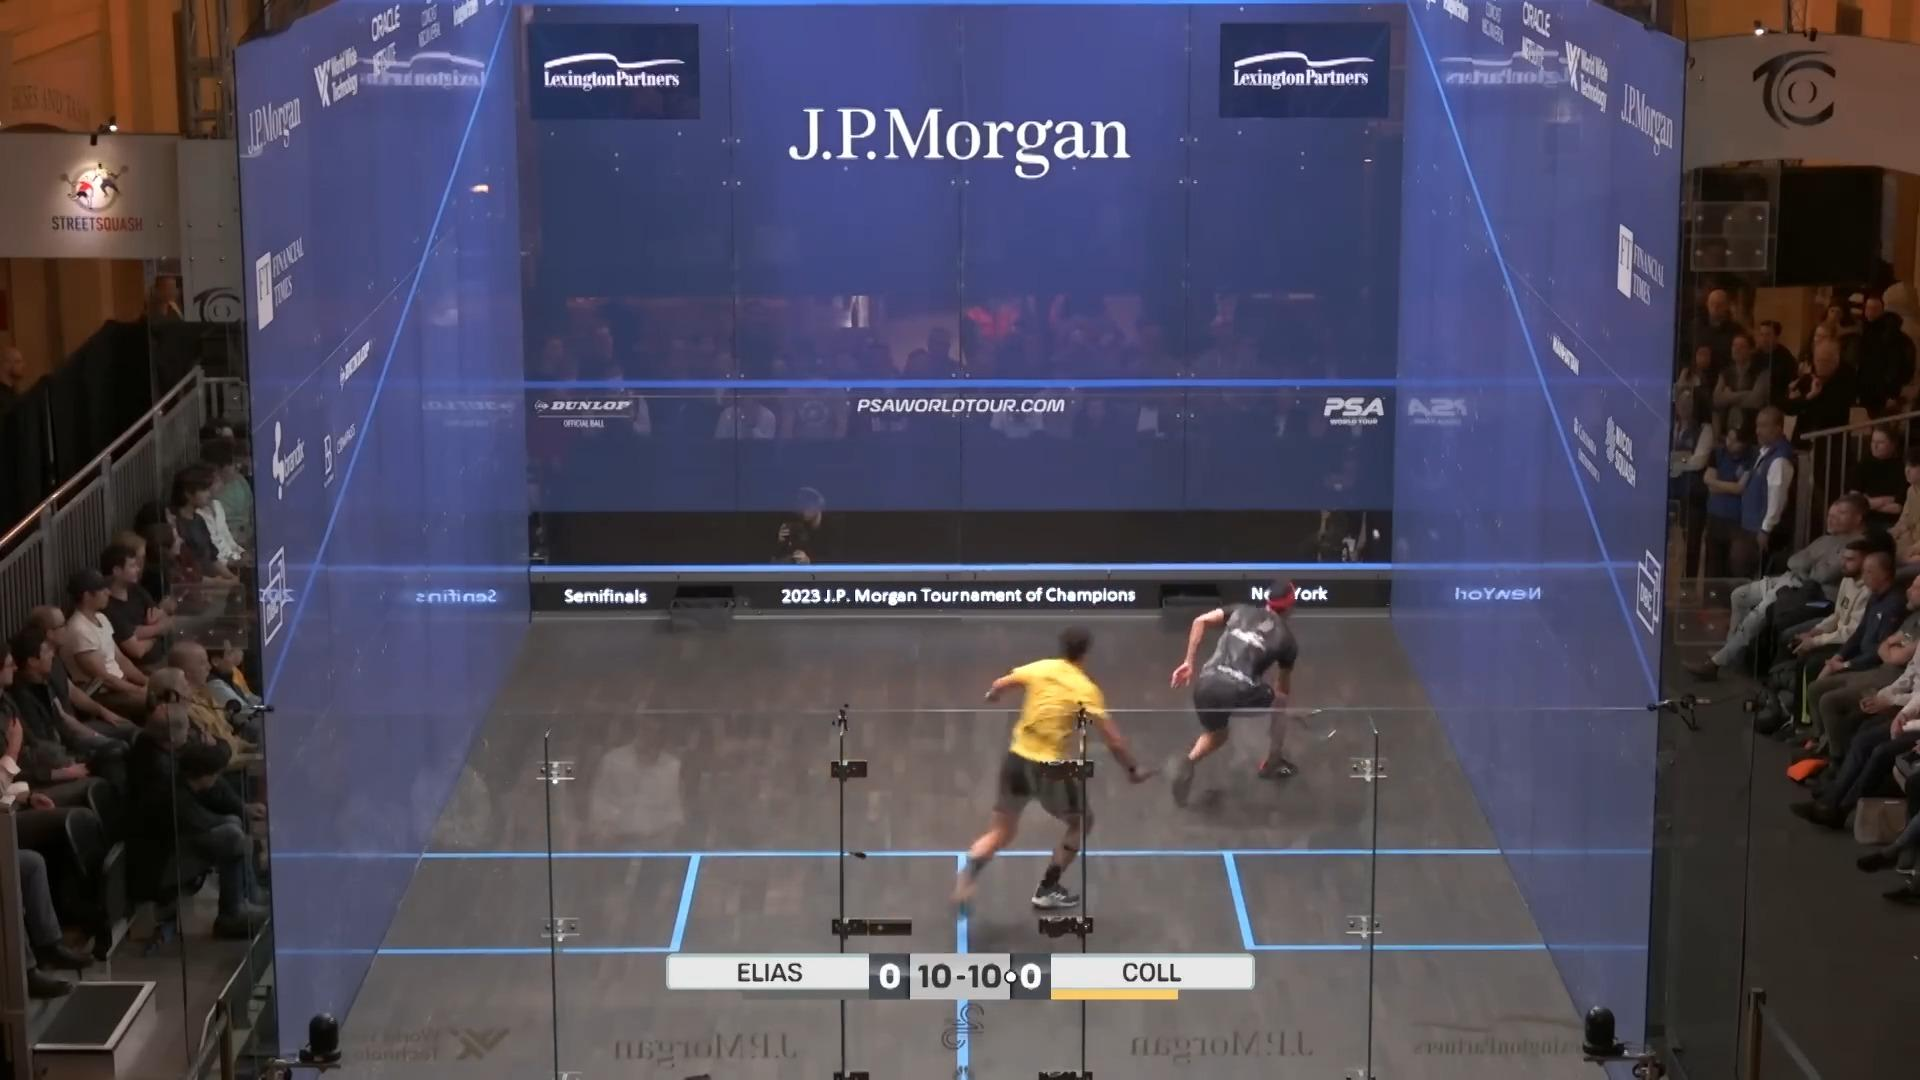Racket: (1137, 741, 1207, 790), (1278, 700, 1352, 746)
